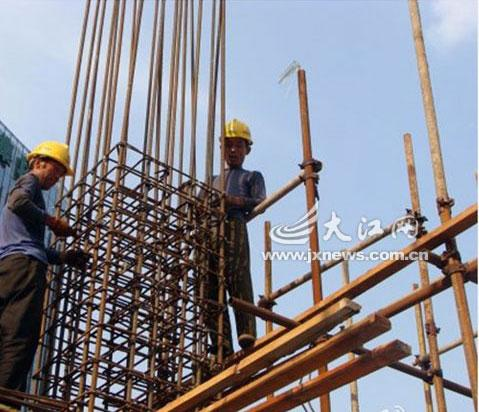helmet: (28, 140, 78, 176), (219, 119, 256, 145)
